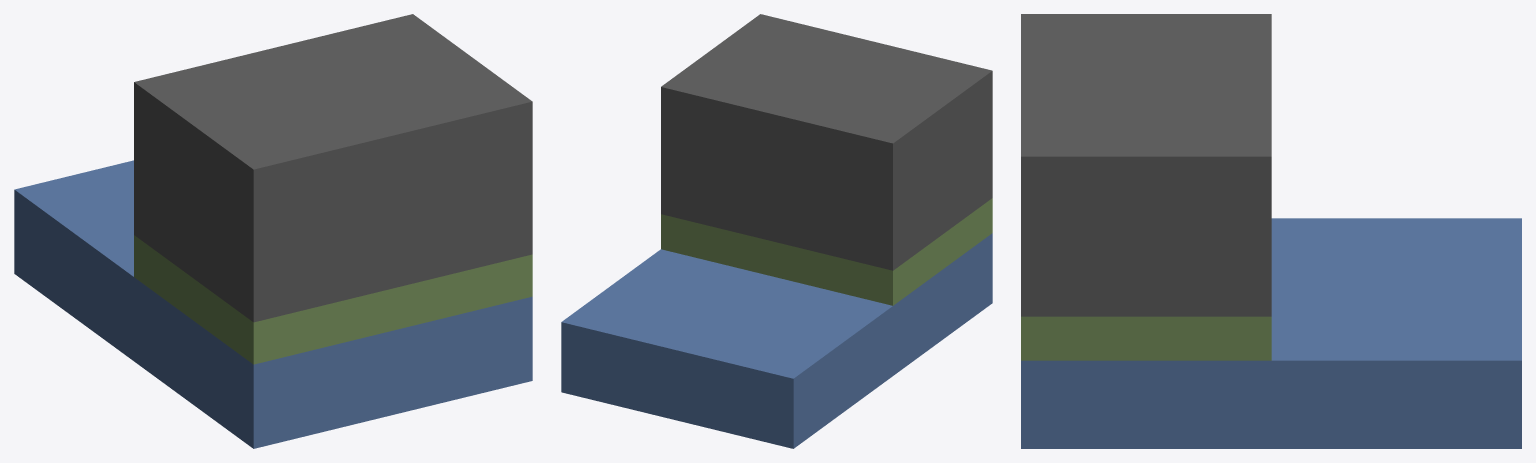
Rendered from quad_26.glb.
3 renders of one model, left to right at view 1: azimuth 30°, elevation 25°; view 2: azimuth 150°, elevation 25°; view 3: azimuth 270°, elevation 25°, orthographic. The views are drawn at different scales.
Parts seen in each view (by area): view 1: quad_26; view 2: quad_26; view 3: quad_26.
Part boxes in pixels (x1=…): quad_26: x1=14, y1=14, x2=532, y2=448; quad_26: x1=561, y1=14, x2=992, y2=448; quad_26: x1=1021, y1=14, x2=1521, y2=448.
Bounding box in the file's own units: 0.577 × 0.5521 × 0.8571.
